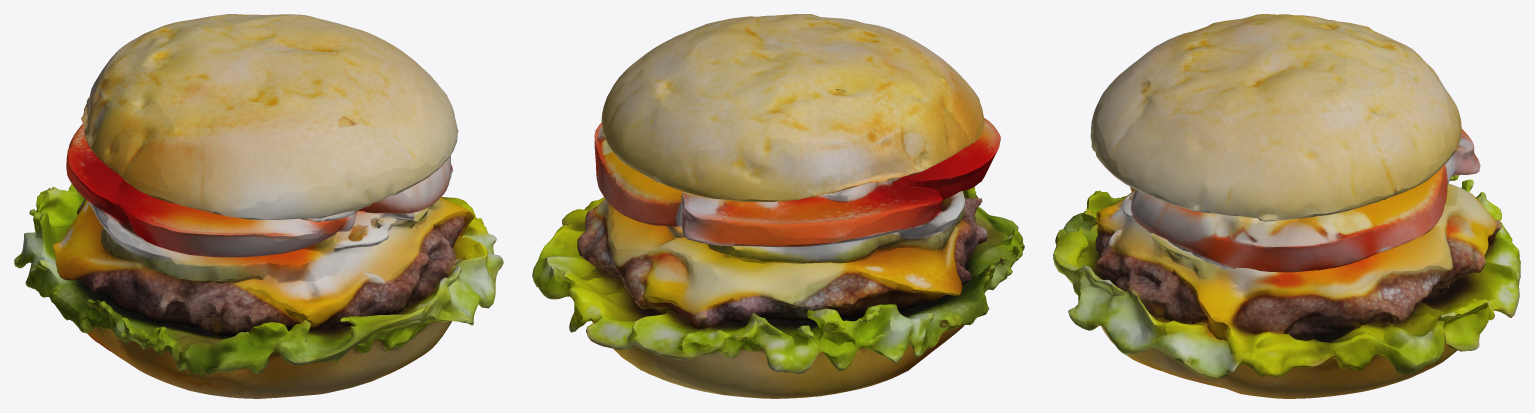
File: item-3d-91d3812d-8e5e-4bf8-ba4a-988659b70912.glb
3 views of the same model, side by side, from view 1: azimuth 30°, elevation 25°; view 2: azimuth 150°, elevation 25°; view 3: azimuth 270°, elevation 25° (orthographic). The views are drawn at different scales.
Parts seen in each view (by area): view 1: world; view 2: world; view 3: world.
Part boxes in pixels (x1,y1,x2,y2): world: (14,14,503,398); world: (532,14,1024,398); world: (1053,14,1520,398).
Size of the model in its own units: 0.9775 by 0.6543 by 0.9979.
1 material, 1 textured.
